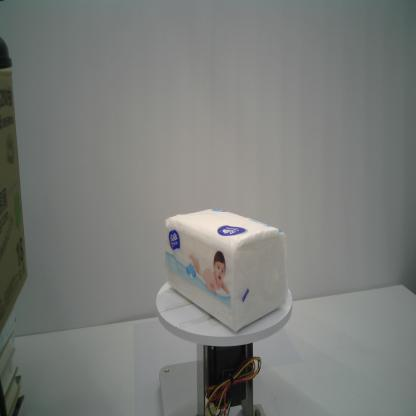Tissue: (165, 207, 290, 334)
